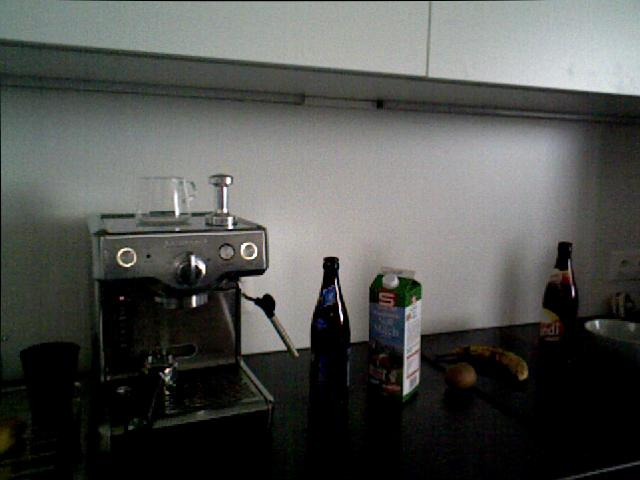bench: (364, 264, 425, 401), (309, 255, 351, 407), (538, 240, 579, 346)
bird: (584, 317, 640, 364)
giraffe: (607, 290, 638, 319)
handbag: (18, 339, 83, 424), (133, 174, 197, 226)
motorcycle: (434, 336, 533, 389)
